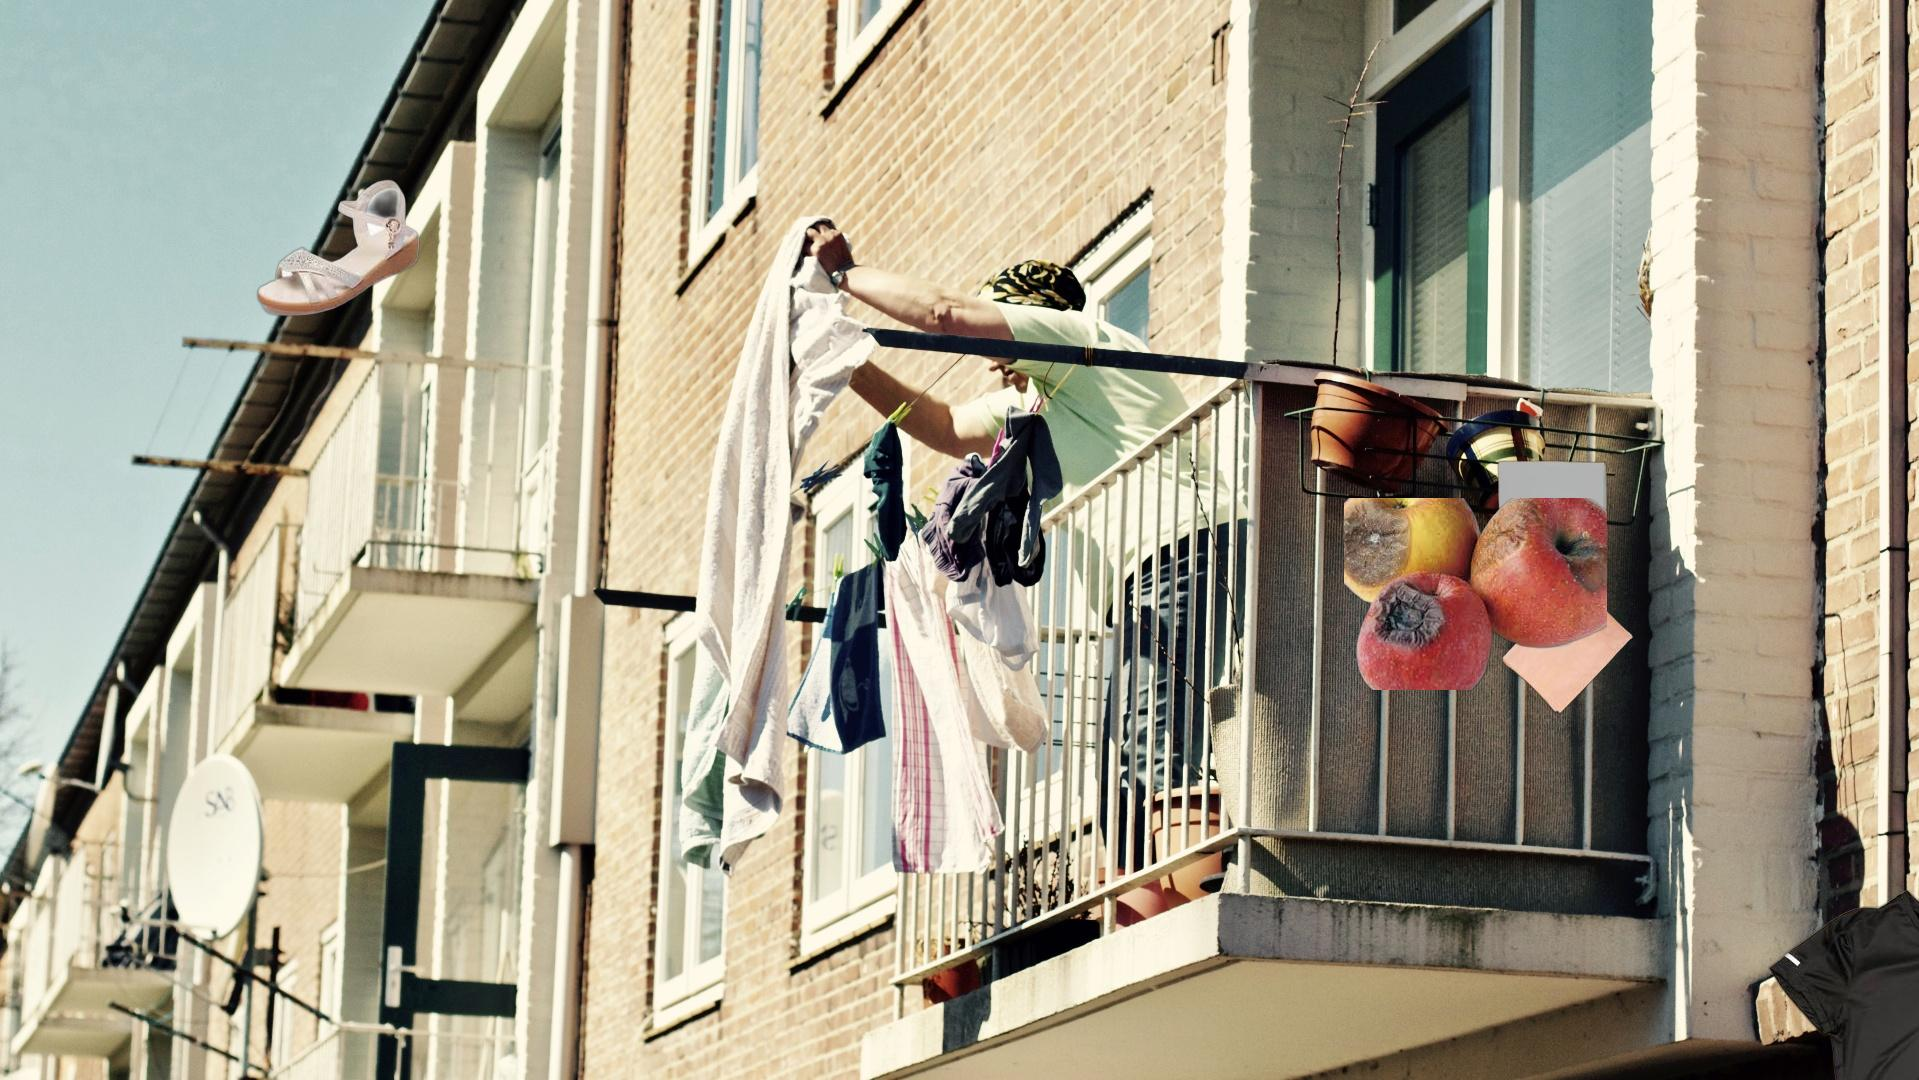battery: (1916, 375, 1919, 1038)
biological: (1344, 498, 1607, 690)
clothes: (1767, 885, 1919, 1080)
metal-cans: (1868, 894, 1919, 1080)
paper-bag: (1496, 459, 1636, 724)
shoes: (254, 177, 422, 319)
